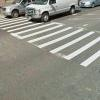Crosswalk: (5, 18, 99, 70)
